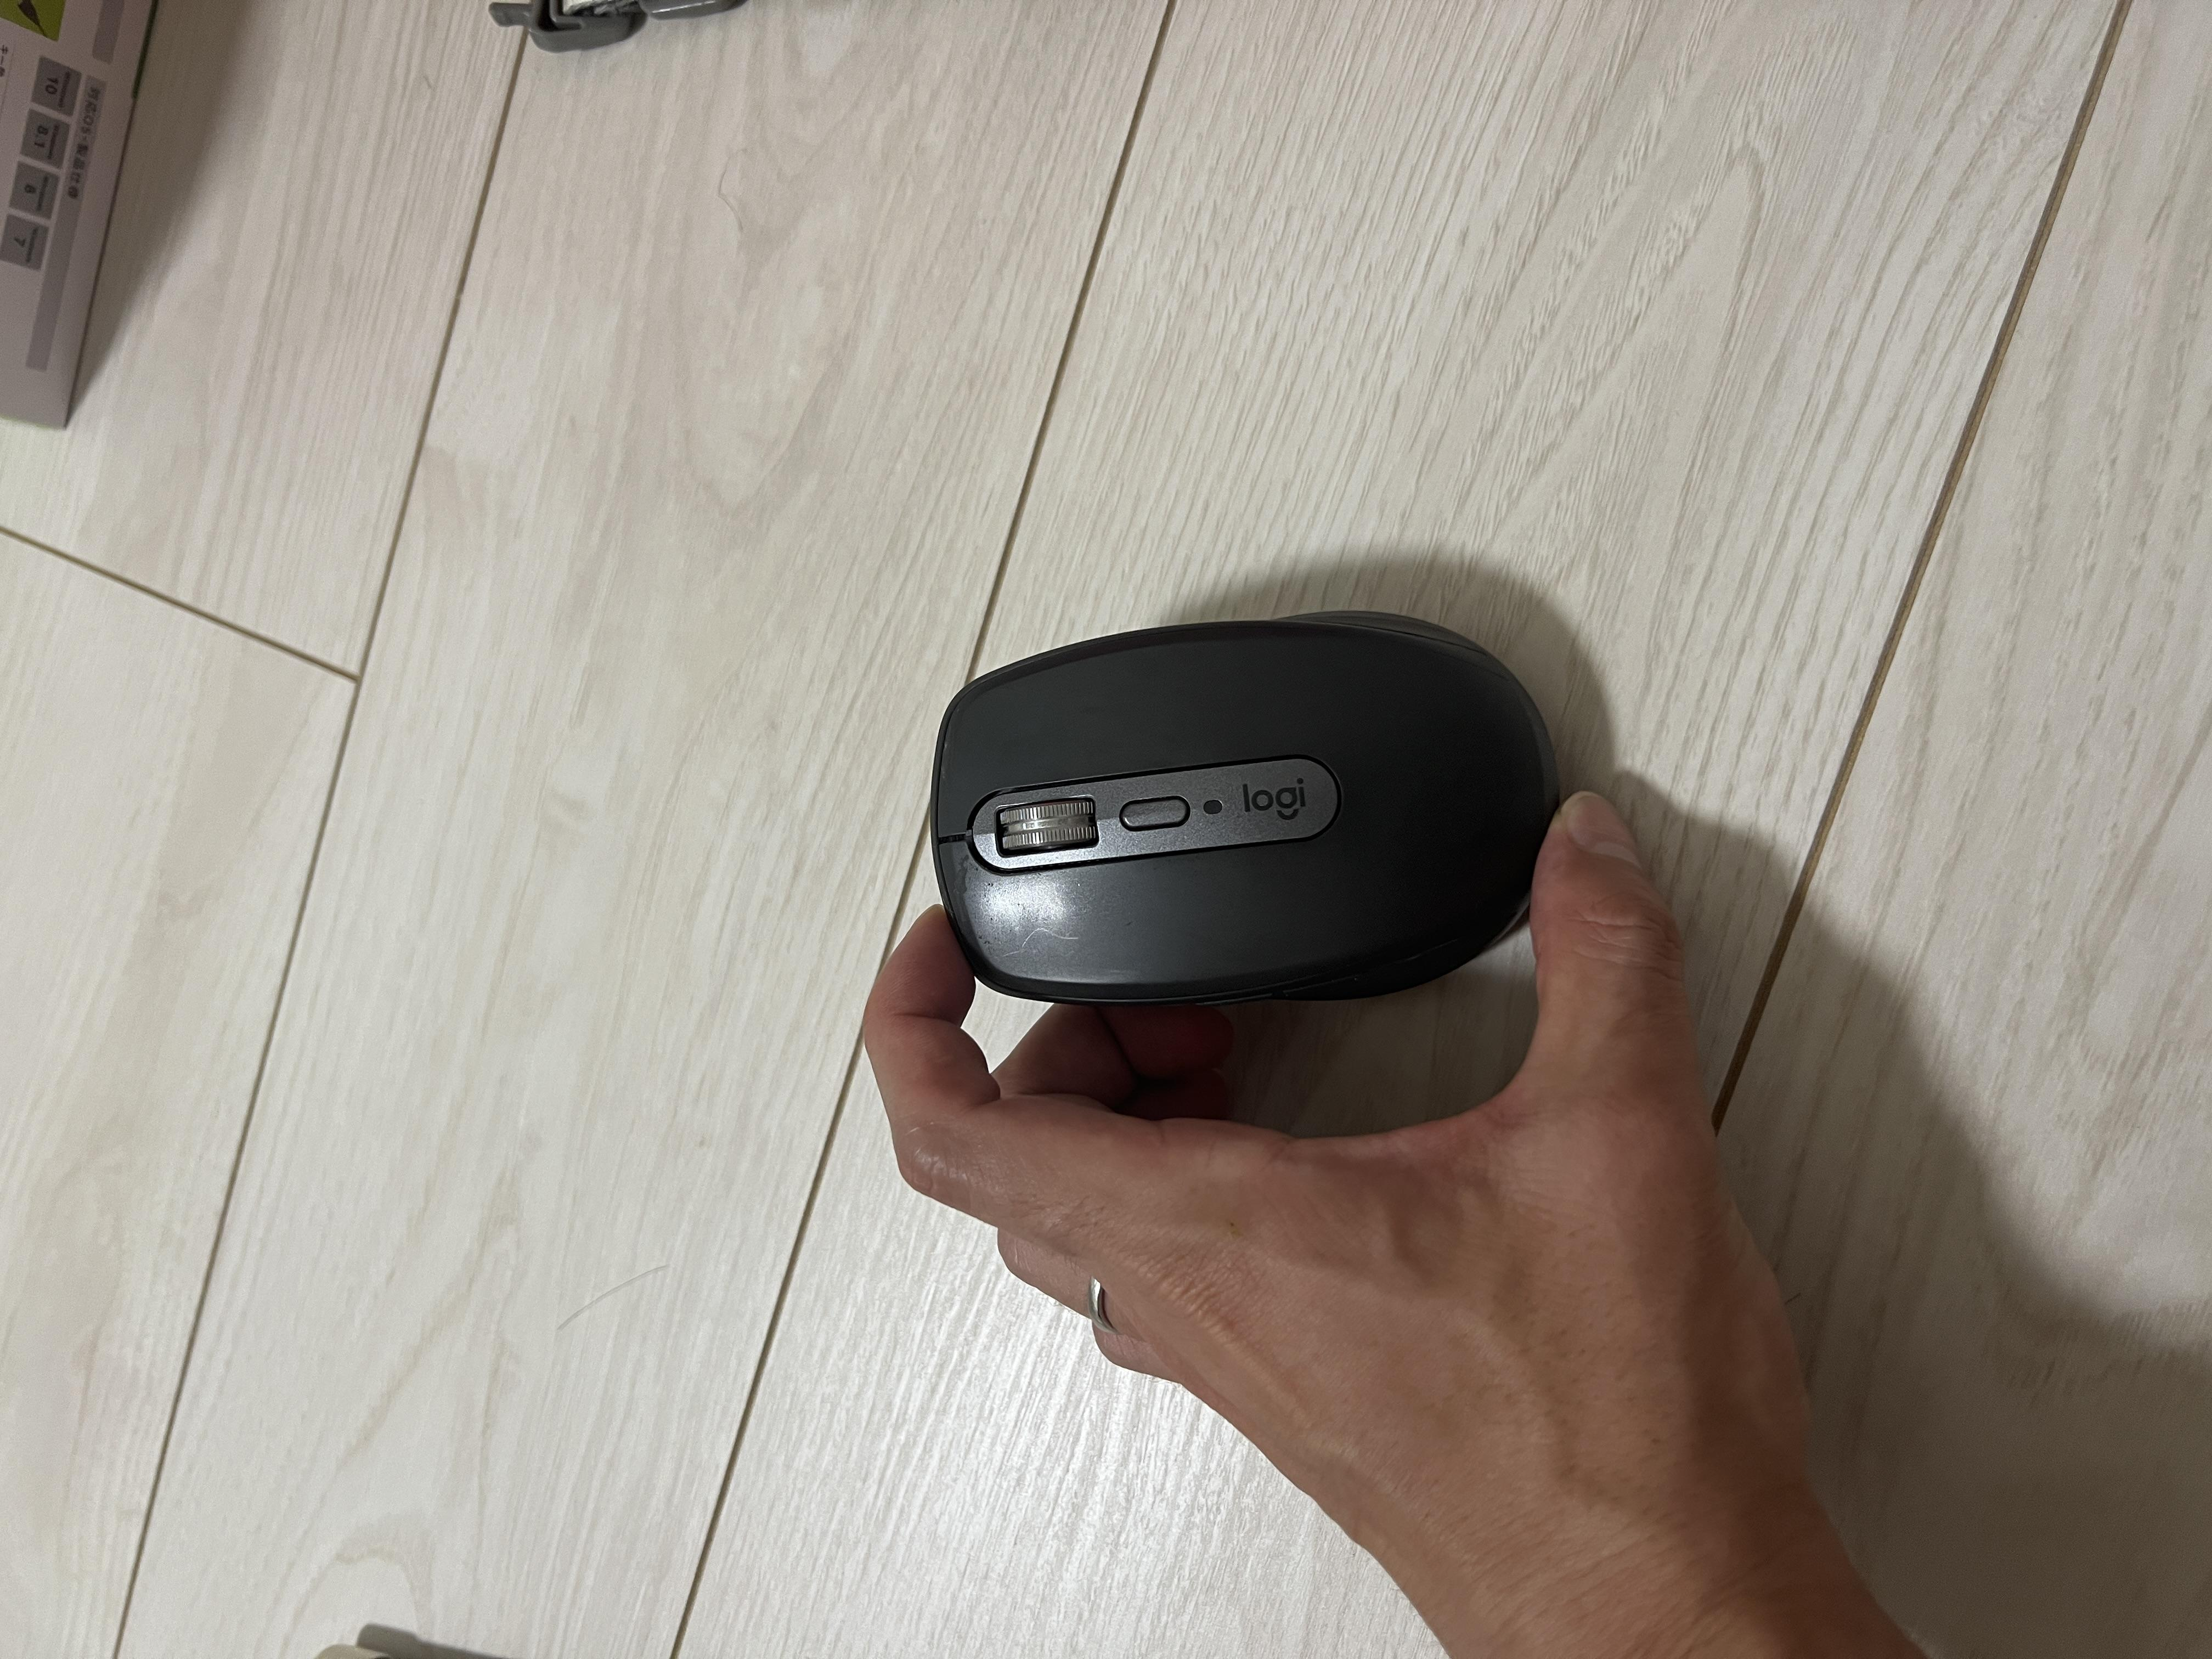mouse: (878, 708, 1388, 1150)
